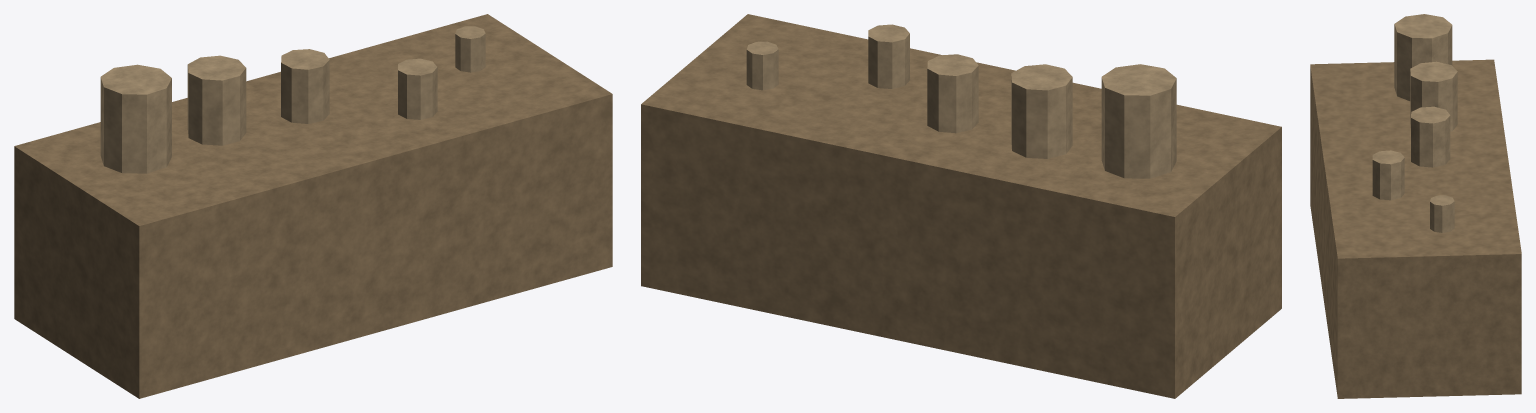
File: stone-bench.glb
3 views of the same model, side by side, from view 1: azimuth 30°, elevation 25°; view 2: azimuth 150°, elevation 25°; view 3: azimuth 270°, elevation 25° (orthographic). The views are drawn at different scales.
Visible parts, largest first — view 1: Cube; view 2: Cube; view 3: Cube.
Part boxes in pixels (x1=…): Cube: x1=14, y1=14, x2=612, y2=398; Cube: x1=641, y1=14, x2=1281, y2=398; Cube: x1=1310, y1=14, x2=1521, y2=398.
Bounding box in the file's own units: 1.28 × 0.612 × 0.5741.
1 material, 1 textured.
